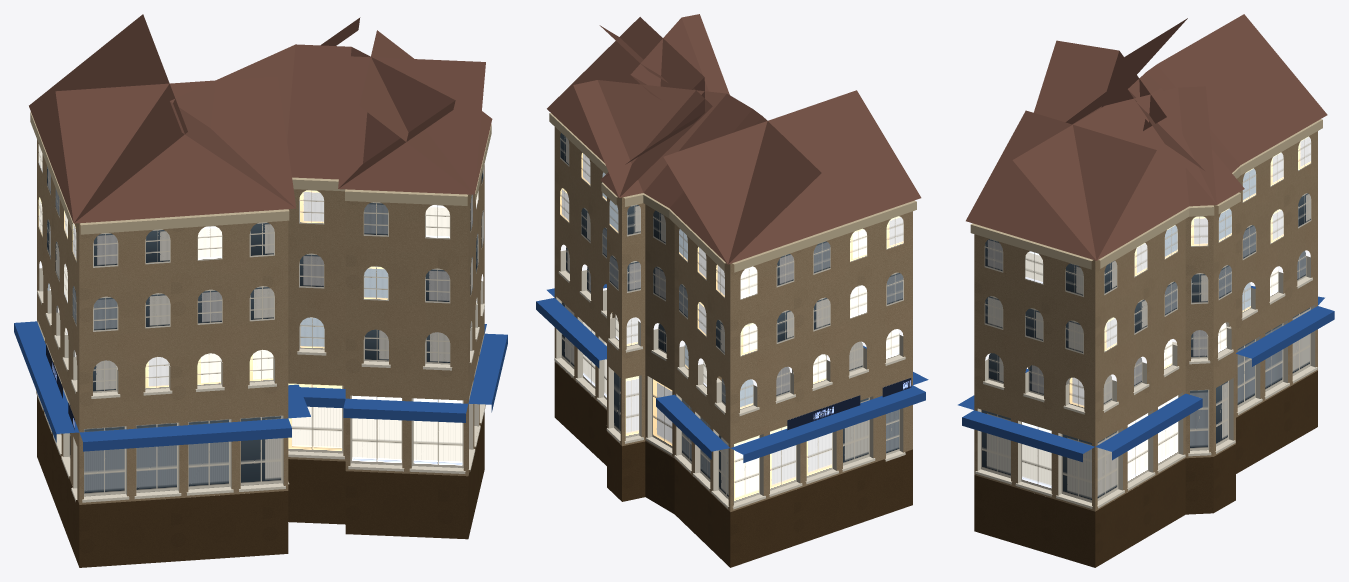
File: langC_longstreet.glb
The picture shows the model from 3 angles, left to right: view 1: azimuth 30°, elevation 25°; view 2: azimuth 150°, elevation 25°; view 3: azimuth 270°, elevation 25°; orthographic projection. The views are drawn at different scales.
Visible parts, largest first — view 1: langC_longstreet; view 2: langC_longstreet; view 3: langC_longstreet.
Boxes of the visible parts, x1,y1,x2,y2 form: langC_longstreet: (14, 14, 507, 567); langC_longstreet: (536, 14, 928, 567); langC_longstreet: (958, 14, 1334, 567).
Size of the model in its own units: 21.93 by 20.55 by 18.21.
3 materials, 3 textured.
